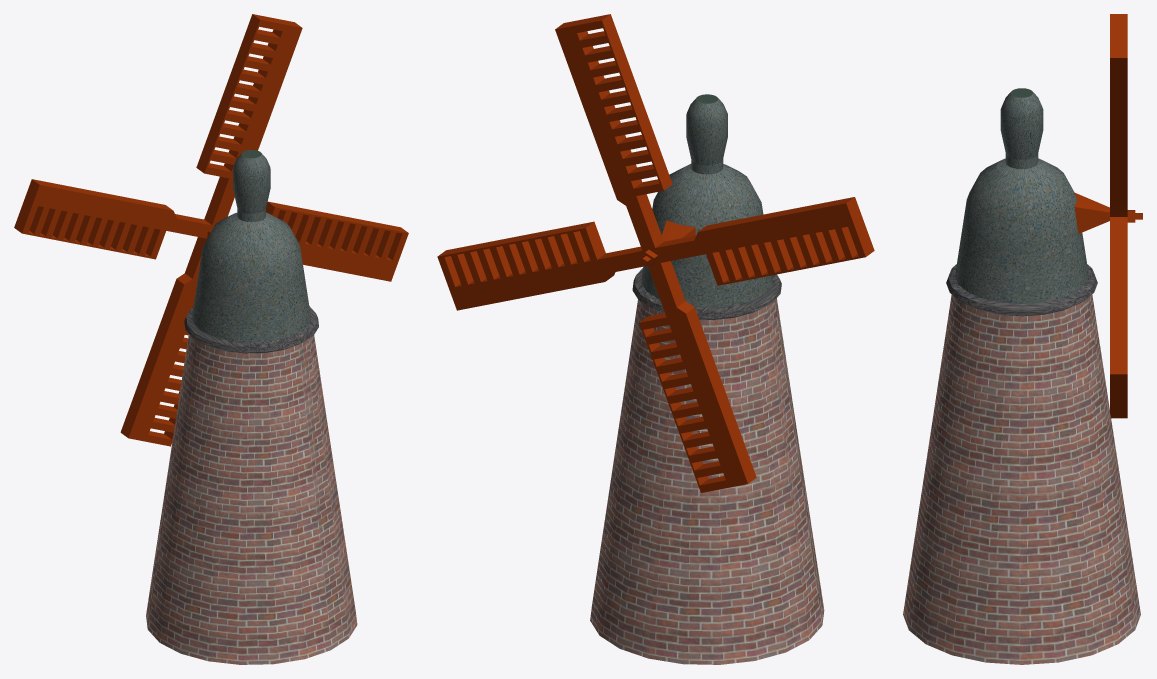
The model's file is fan2.fbx.
3 views of the same model, side by side, from view 1: azimuth 30°, elevation 25°; view 2: azimuth 150°, elevation 25°; view 3: azimuth 270°, elevation 25° (orthographic). The views are drawn at different scales.
Visible parts, largest first — view 1: fan6:polySurface1pCylinder2, fan6:pCylinder2polySurface2; view 2: fan6:polySurface1pCylinder2, fan6:pCylinder2polySurface2; view 3: fan6:polySurface1pCylinder2, fan6:pCylinder2polySurface2.
Boxes of the visible parts, bbox=[...] form: fan6:polySurface1pCylinder2: bbox=[146, 150, 357, 664]; fan6:pCylinder2polySurface2: bbox=[14, 14, 408, 446]; fan6:polySurface1pCylinder2: bbox=[590, 94, 824, 664]; fan6:pCylinder2polySurface2: bbox=[437, 14, 874, 492]; fan6:polySurface1pCylinder2: bbox=[903, 88, 1140, 664]; fan6:pCylinder2polySurface2: bbox=[1110, 14, 1142, 418].
Size of the model in its own units: 4.2 by 5.81 by 2.02.
